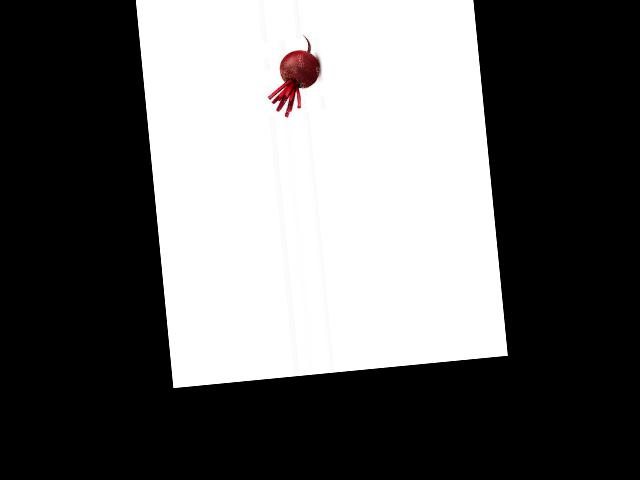beet: (263, 34, 323, 119)
